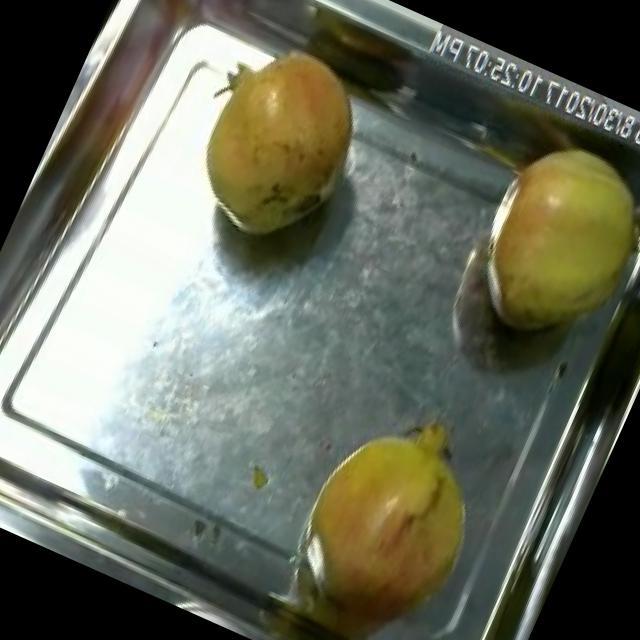fruit: (252, 378, 517, 640), (142, 3, 396, 276), (444, 117, 640, 374)
